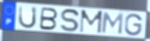B: (38, 7, 59, 32)
G: (124, 13, 143, 37)
M: (78, 10, 104, 35), (101, 11, 125, 36)
S: (61, 8, 81, 33)
U: (18, 5, 38, 30)
